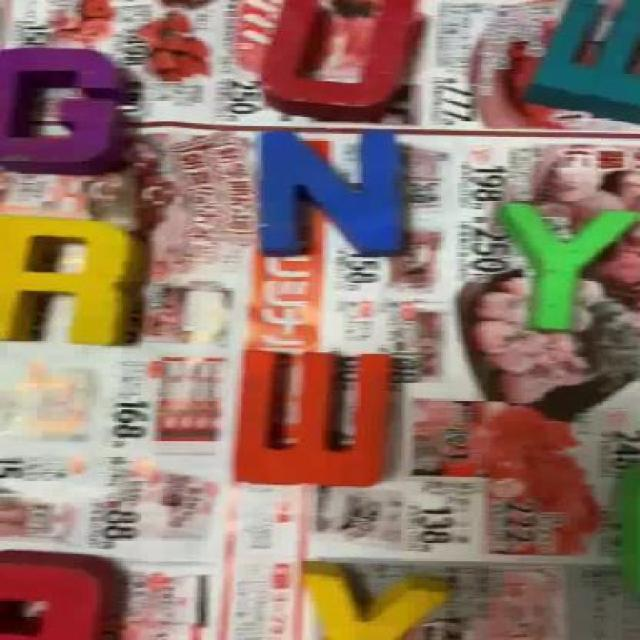G: (0, 48, 120, 170)
N: (258, 129, 400, 257)
R: (0, 217, 138, 346)
U: (265, 0, 407, 117)
W: (232, 350, 390, 482)
Y: (502, 203, 638, 334)
